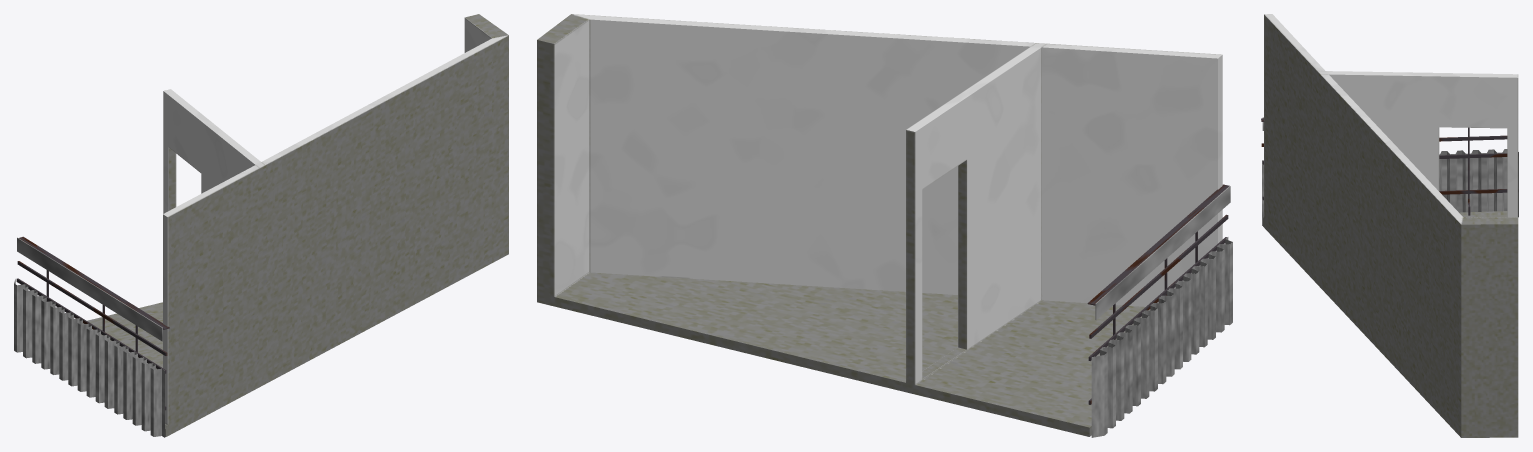
File: Balkon angle.fbx
The picture shows the model from 3 angles, left to right: view 1: azimuth 30°, elevation 25°; view 2: azimuth 150°, elevation 25°; view 3: azimuth 270°, elevation 25°; orthographic projection. The views are drawn at different scales.
Visible parts, largest first — view 1: Cube.077, face.079, face.078; view 2: Cube.077, face.079, face.078; view 3: Cube.077, face.079, face.078.
Boxes of the visible parts, x1,y1,x2,y2 form: Cube.077: (83, 14, 508, 437); face.079: (14, 279, 164, 437); face.078: (16, 236, 169, 410); Cube.077: (537, 14, 1222, 436); face.079: (1091, 237, 1232, 437); face.078: (1087, 184, 1230, 404); Cube.077: (1263, 14, 1518, 437); face.079: (1262, 149, 1518, 225); face.078: (1261, 117, 1518, 215).
Size of the model in its own units: 621 by 277 by 303.
4 materials, 4 textured.
